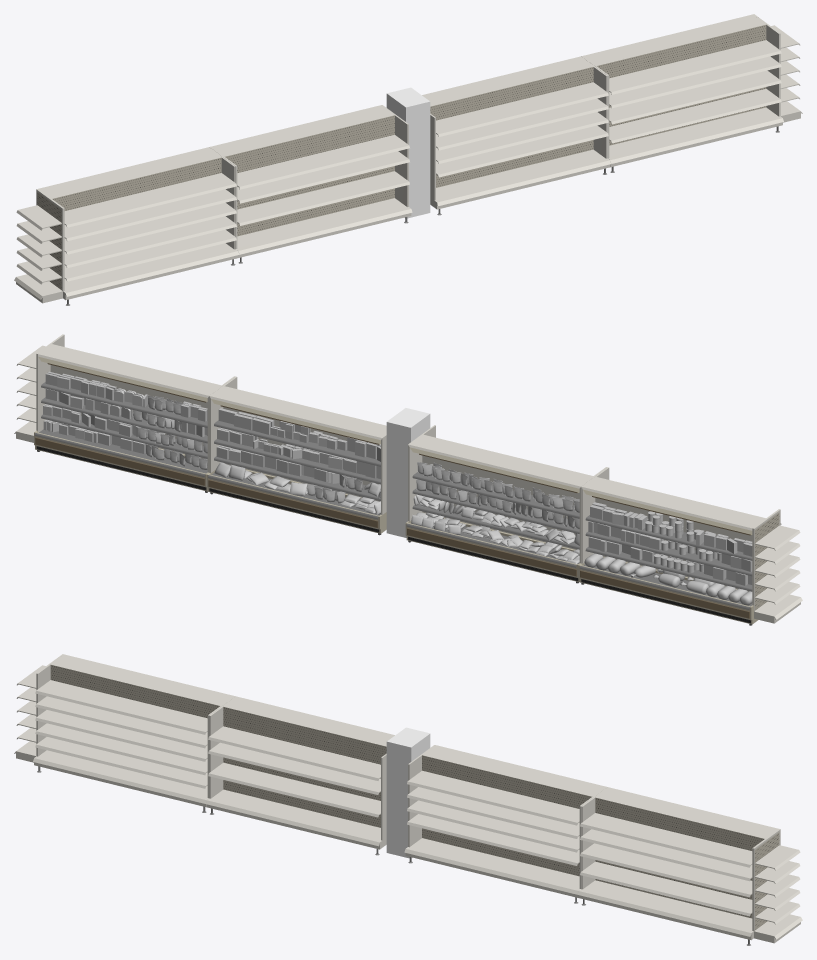
The model's file is frozen-food-aisle-left-side.fbx.
The picture shows the model from 3 angles, top to bottom: view 1: azimuth 30°, elevation 25°; view 2: azimuth 150°, elevation 25°; view 3: azimuth 330°, elevation 25°; orthographic projection.
Visible parts, largest first — view 1: polySurface461_shelf_holes_M_0, polySurface479_metal_beige_M_0, polySurface461_metal_beige_M_0, polySurface480_metal_beige_M_0, polySurface479_shelf_holes_M_0, polySurface462_metal_beige_M_0, polySurface480_shelf_holes_M_0, beam_010_wallpaper_white_M_0, aisle_shelf_a_034_metal_beige_M_0, aisle_shelf_a_032_metal_beige_M_0, aisle_shelf_a_031_metal_beige_M_0, aisle_shelf_a_039_metal_beige_M_0 (+21 smaller); view 2: beam_010_wallpaper_white_M_0, aisle_shelf_b_104_metal_beige_M_0_0, aisle_shelf_b_104_metal_beige_M_0, aisle_shelf_b_104_metal_beige_M_0_1, aisle_shelf_b_104_metal_beige_M_0_2, polySurface463_metal_beige_M_0_0, polySurface435_beige_neutral_M_0_2, polySurface435_beige_neutral_M_0_0, pCube253_beige_panels_M_0_0, pCube252_beige_panels_M_0_0, polySurface435_beige_neutral_M_0, pCube253_beige_panels_M_0 (+37 smaller); view 3: polySurface461_shelf_holes_M_0, polySurface461_metal_beige_M_0, polySurface479_metal_beige_M_0, polySurface480_metal_beige_M_0, polySurface479_shelf_holes_M_0, polySurface462_metal_beige_M_0, polySurface480_shelf_holes_M_0, beam_010_wallpaper_white_M_0, aisle_shelf_a_031_metal_beige_M_0, aisle_shelf_a_032_metal_beige_M_0, aisle_shelf_a_098_metal_beige_M_0, aisle_shelf_a_026_metal_beige_M_0 (+21 smaller).
Part boxes in pixels (x1,y1,x2,y2): polySurface461_shelf_holes_M_0: (225, 115, 394, 236); polySurface479_metal_beige_M_0: (430, 66, 610, 209); polySurface461_metal_beige_M_0: (223, 114, 412, 257); polySurface480_metal_beige_M_0: (595, 24, 783, 167); polySurface479_shelf_holes_M_0: (430, 67, 593, 187); polySurface462_metal_beige_M_0: (51, 157, 239, 300); polySurface480_shelf_holes_M_0: (597, 25, 766, 145); beam_010_wallpaper_white_M_0: (386, 87, 430, 218); aisle_shelf_a_034_metal_beige_M_0: (237, 135, 409, 189); aisle_shelf_a_032_metal_beige_M_0: (237, 171, 409, 225); aisle_shelf_a_031_metal_beige_M_0: (436, 82, 608, 136); aisle_shelf_a_039_metal_beige_M_0: (64, 173, 236, 227); beam_010_wallpaper_white_M_0: (386, 408, 430, 537); aisle_shelf_b_104_metal_beige_M_0_0: (408, 435, 593, 488); aisle_shelf_b_104_metal_beige_M_0: (581, 477, 764, 530); aisle_shelf_b_104_metal_beige_M_0_1: (38, 345, 221, 397); aisle_shelf_b_104_metal_beige_M_0_2: (209, 386, 386, 440); polySurface463_metal_beige_M_0_0: (421, 435, 593, 549); polySurface435_beige_neutral_M_0_2: (207, 469, 386, 533); polySurface435_beige_neutral_M_0_0: (405, 512, 580, 582); pCube253_beige_panels_M_0_0: (208, 479, 378, 527); pCube252_beige_panels_M_0_0: (35, 437, 205, 485); polySurface435_beige_neutral_M_0: (578, 556, 758, 624); pCube253_beige_panels_M_0: (407, 528, 576, 576); polySurface461_shelf_holes_M_0: (223, 707, 386, 827); polySurface461_metal_beige_M_0: (206, 706, 386, 849); polySurface479_metal_beige_M_0: (404, 754, 593, 897); polySurface480_metal_beige_M_0: (577, 796, 765, 940); polySurface479_shelf_holes_M_0: (422, 755, 591, 876); polySurface462_metal_beige_M_0: (33, 664, 221, 807); polySurface480_shelf_holes_M_0: (595, 797, 764, 918); beam_010_wallpaper_white_M_0: (386, 727, 430, 858); aisle_shelf_a_031_metal_beige_M_0: (407, 770, 579, 825); aisle_shelf_a_032_metal_beige_M_0: (208, 762, 380, 817); aisle_shelf_a_098_metal_beige_M_0: (580, 861, 752, 916); aisle_shelf_a_026_metal_beige_M_0: (580, 813, 752, 867).
Size of the model in its own units: 207165 by 28912 by 16321.
